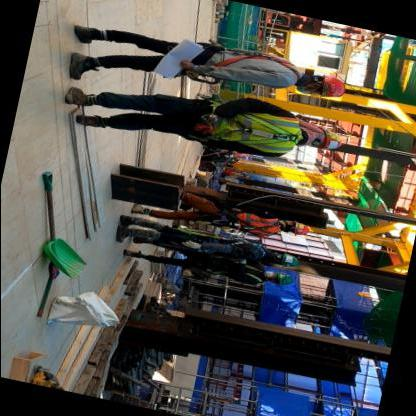Helmet: (313, 70, 354, 104)
safety-shoe: (58, 46, 99, 82), (61, 19, 99, 47), (72, 109, 107, 135), (55, 84, 91, 109)
